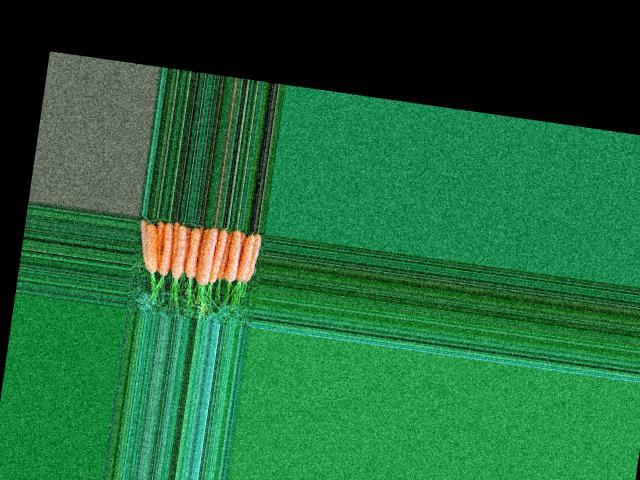carrot: (246, 230, 260, 282)
